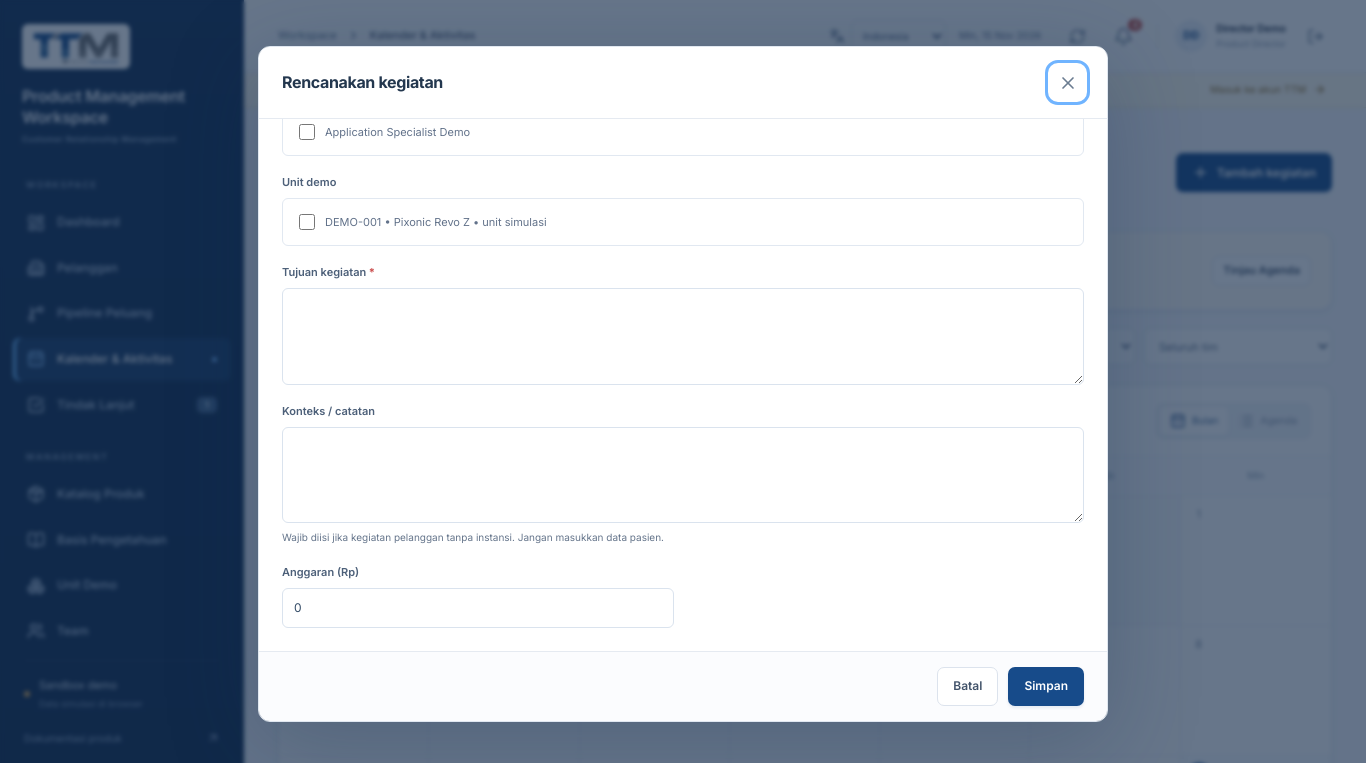
Test: opens a product-prefilled draft without saving an activity
(page scrolled)
Expected: the heading "Rencanakan kegiatan" is shown, [282,70,443,95]
Click the button "Batal": (968, 687) [937,667,998,706]
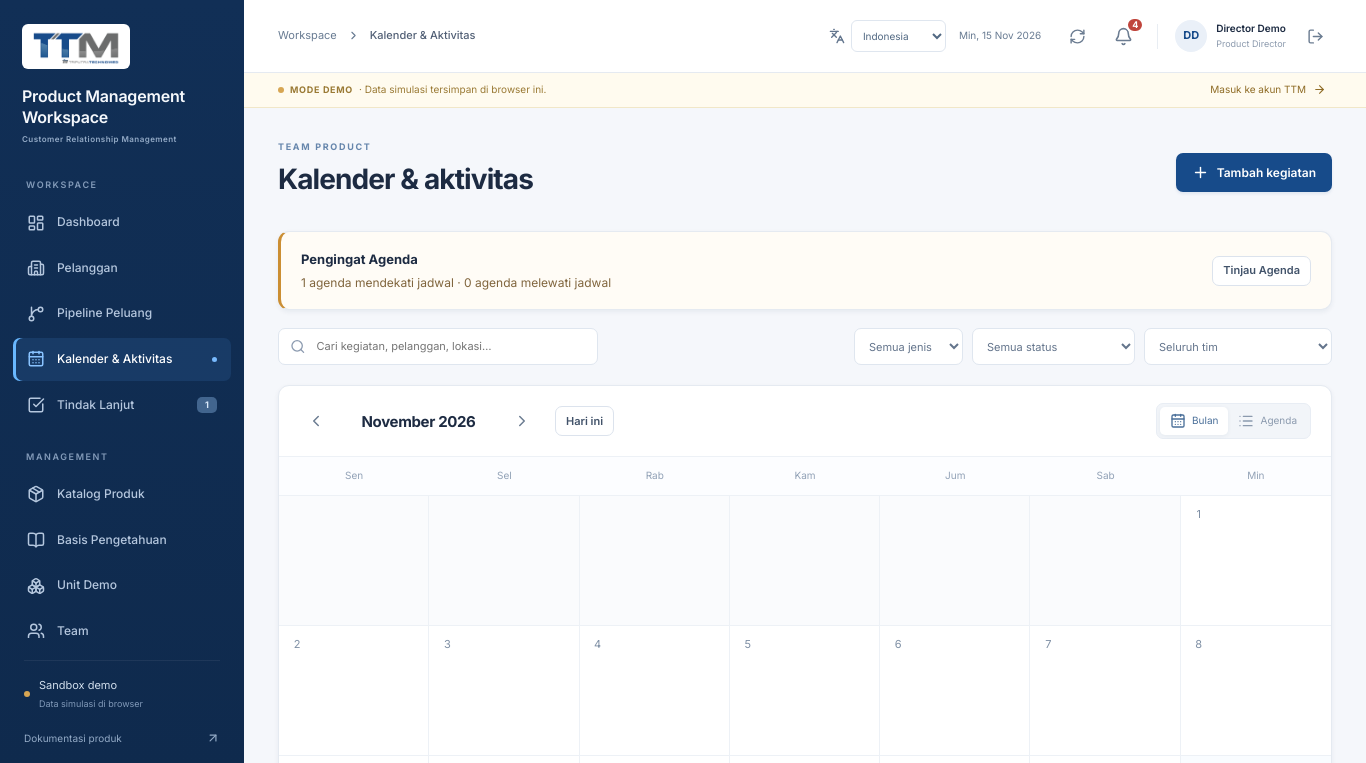
Now the dialog is gone
